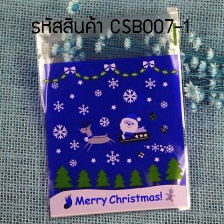snack: (25, 2, 197, 224)
